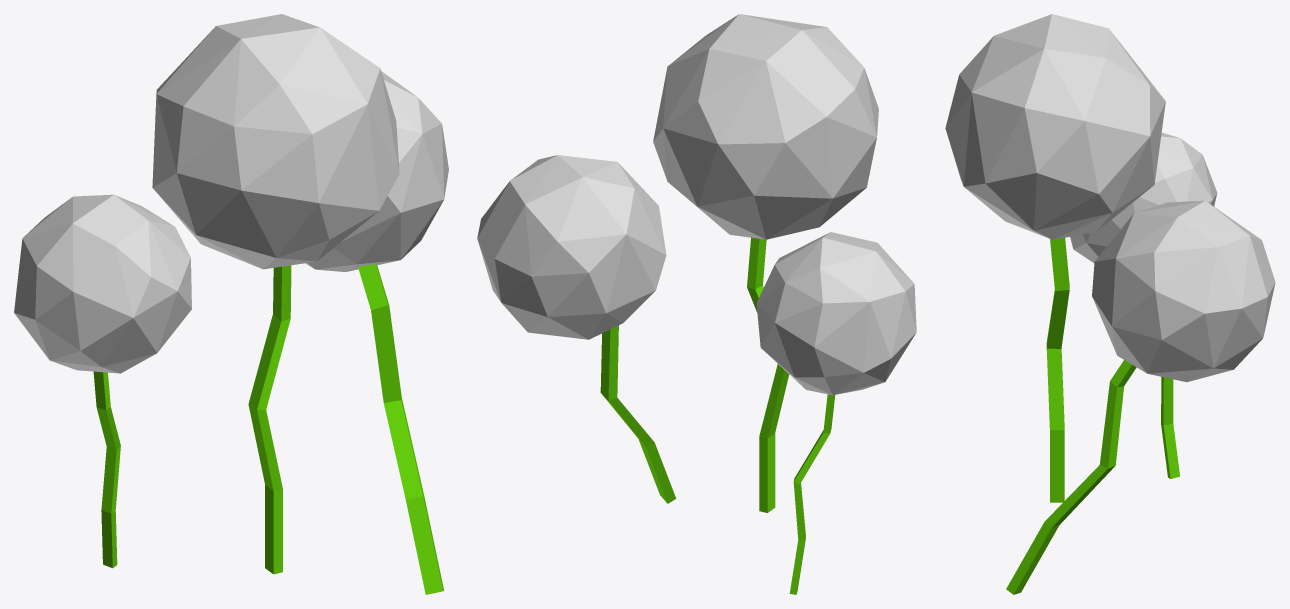
Rendered from Dandelion_Puff_1.fbx.
3 renders of one model, left to right at view 1: azimuth 30°, elevation 25°; view 2: azimuth 150°, elevation 25°; view 3: azimuth 270°, elevation 25°, orthographic. The views are drawn at different scales.
Visible parts, largest first — view 1: Dandelion Puffs 1; view 2: Dandelion Puffs 1; view 3: Dandelion Puffs 1.
Boxes of the visible parts, <box> form: Dandelion Puffs 1: <box>14,14,448,594</box>; Dandelion Puffs 1: <box>477,14,916,594</box>; Dandelion Puffs 1: <box>945,14,1275,594</box>.
Size of the model in its own units: 14.61 by 18.6 by 10.97.
